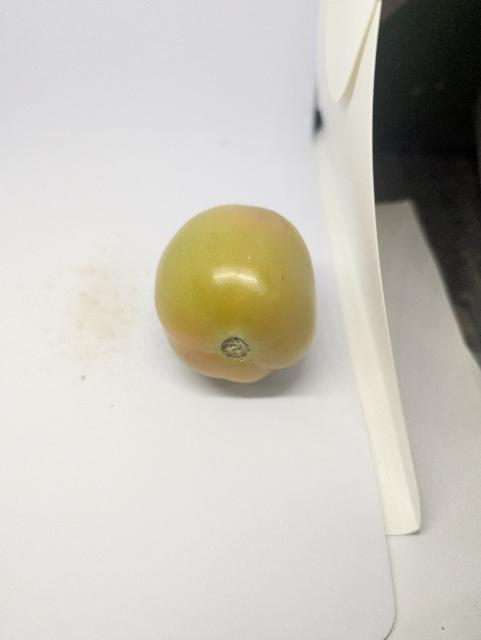breaker: (155, 205, 316, 383)
